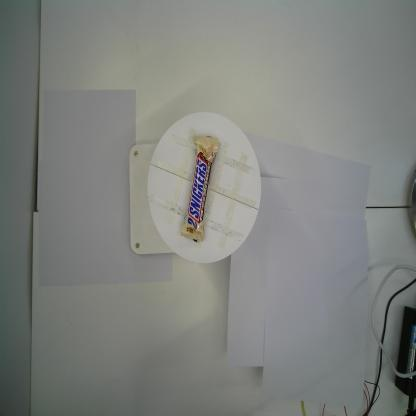Chocolate: (180, 134, 219, 242)
